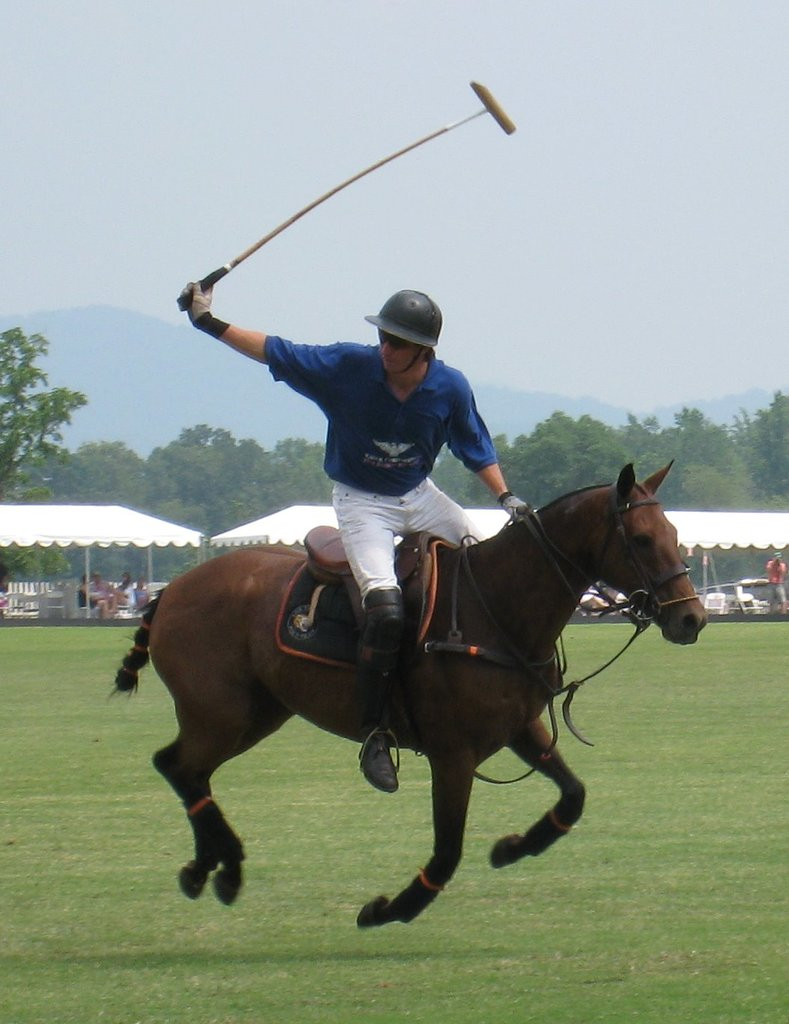Person: (179, 279, 527, 792), (77, 572, 150, 621), (763, 552, 789, 618), (0, 557, 10, 620)
